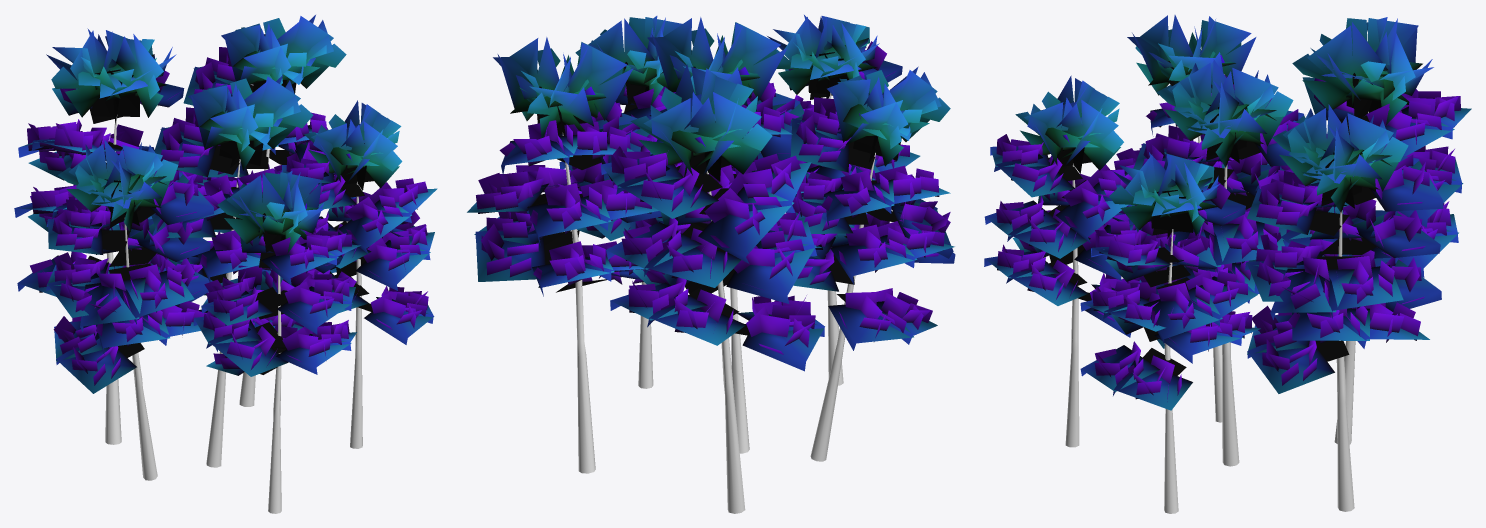
The model's file is scots_pine_forest.dae.
3 views of the same model, side by side, from view 1: azimuth 30°, elevation 25°; view 2: azimuth 150°, elevation 25°; view 3: azimuth 270°, elevation 25° (orthographic). The views are drawn at different scales.
Parts seen in each view (by area): view 1: scots_pine_tall_021; view 2: scots_pine_tall_021; view 3: scots_pine_tall_021.
Part boxes in pixels (x1=…): scots_pine_tall_021: x1=14, y1=15, x2=437, y2=513; scots_pine_tall_021: x1=467, y1=15, x2=955, y2=513; scots_pine_tall_021: x1=984, y1=15, x2=1471, y2=513.
Bounding box in the file's own units: 14.71 × 15.79 × 15.35.
